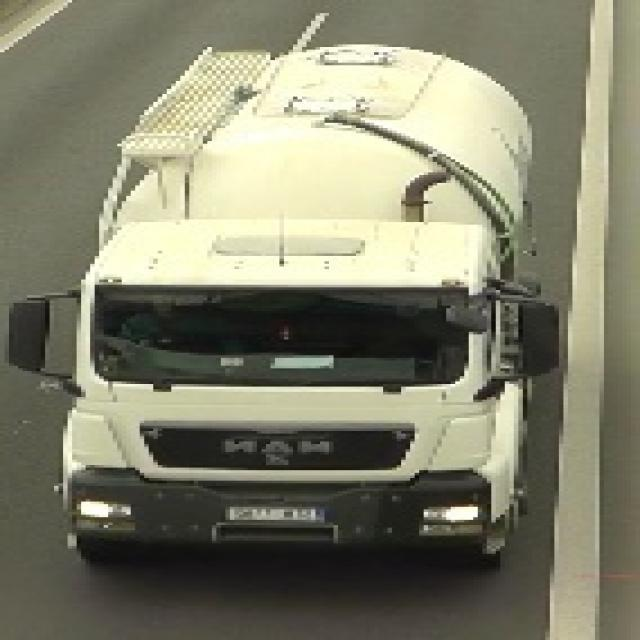truck: (0, 31, 554, 585)
